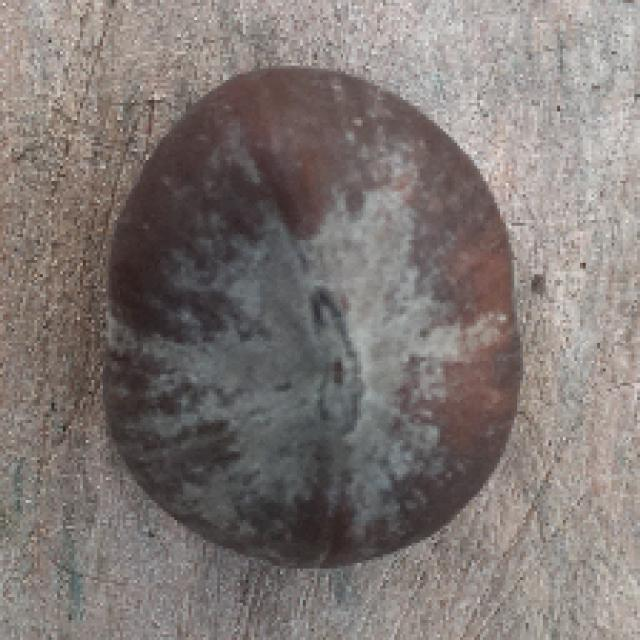DamagedHazelnut: (104, 66, 530, 574)
